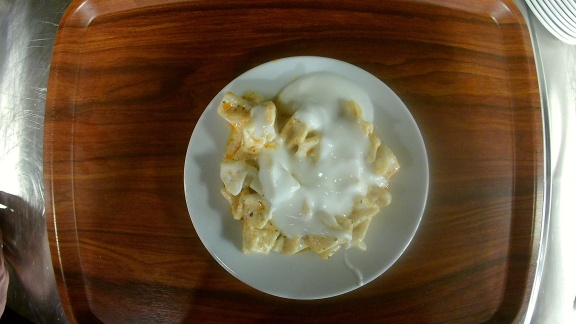manti: (182, 53, 432, 299)
